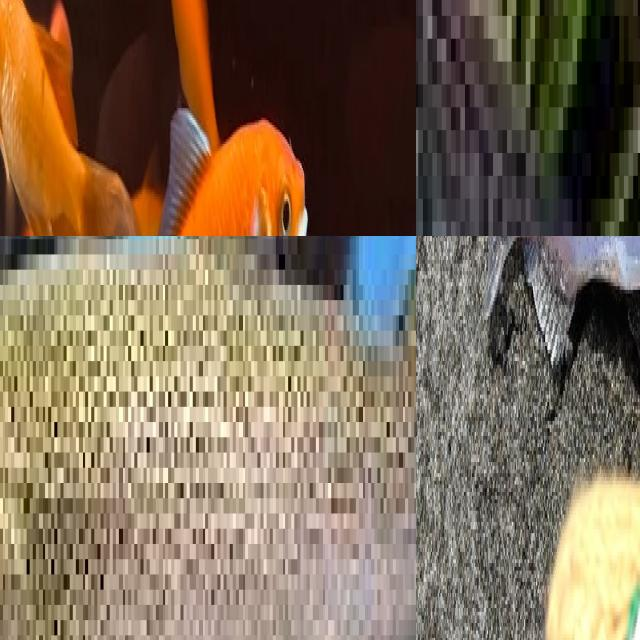fish: (0, 236, 416, 640), (0, 0, 416, 236), (416, 0, 640, 236), (468, 236, 640, 394)
